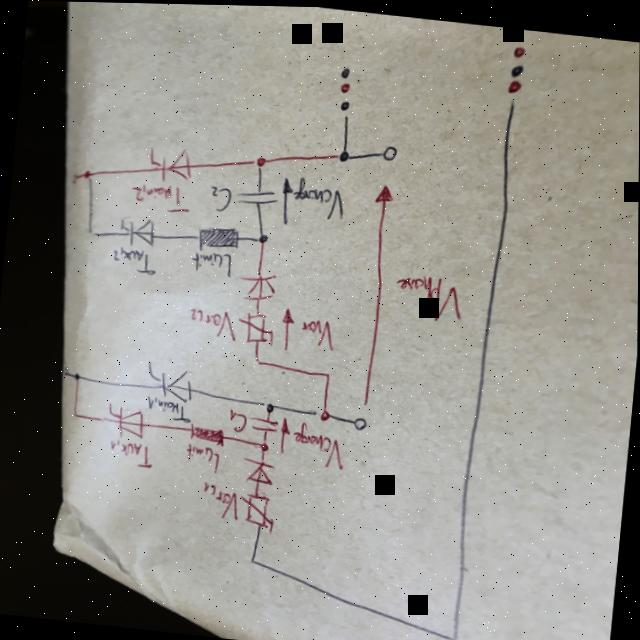capacitor: (235, 185, 279, 206), (249, 413, 280, 433)
diode: (237, 270, 278, 301), (239, 455, 277, 484)
inductor: (196, 222, 240, 254), (187, 421, 228, 446)
junction: (313, 405, 332, 420), (251, 153, 267, 167), (335, 147, 351, 161), (261, 399, 276, 412), (255, 231, 270, 243), (257, 437, 270, 450), (445, 630, 461, 640), (82, 168, 94, 180), (250, 355, 263, 365), (85, 228, 98, 236), (321, 369, 332, 378), (73, 370, 81, 381), (71, 409, 80, 417), (247, 556, 257, 563)
terminal: (504, 76, 524, 103), (379, 141, 398, 160), (336, 97, 353, 118), (353, 414, 368, 429), (70, 171, 79, 183), (62, 365, 70, 376)
text: (390, 269, 466, 321), (289, 418, 349, 469), (290, 174, 347, 220), (129, 179, 193, 213), (186, 305, 240, 340), (200, 480, 242, 520), (106, 436, 156, 469), (109, 244, 160, 275), (145, 394, 193, 422), (182, 440, 222, 473), (189, 248, 234, 277), (299, 316, 337, 349), (205, 184, 234, 212), (226, 406, 249, 433)
thyristor: (142, 363, 197, 402), (145, 144, 196, 184), (103, 403, 147, 439), (117, 215, 157, 248)
